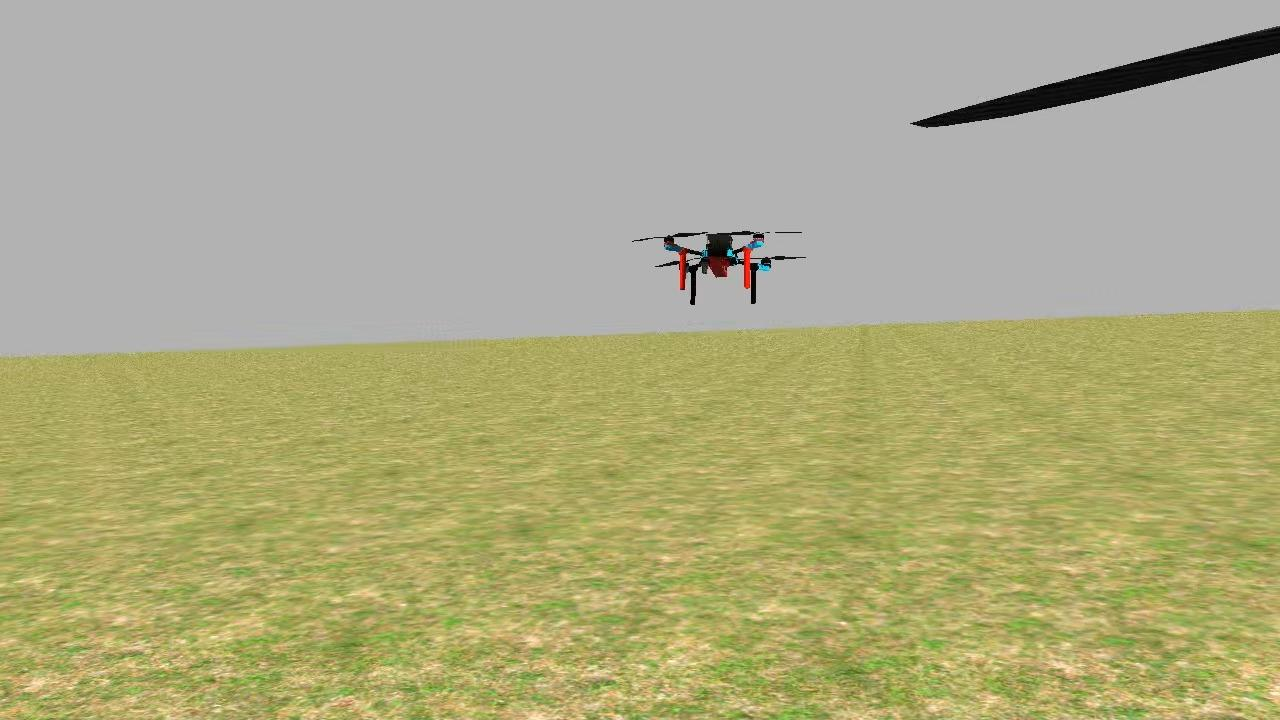UAV: (641, 200, 807, 322)
